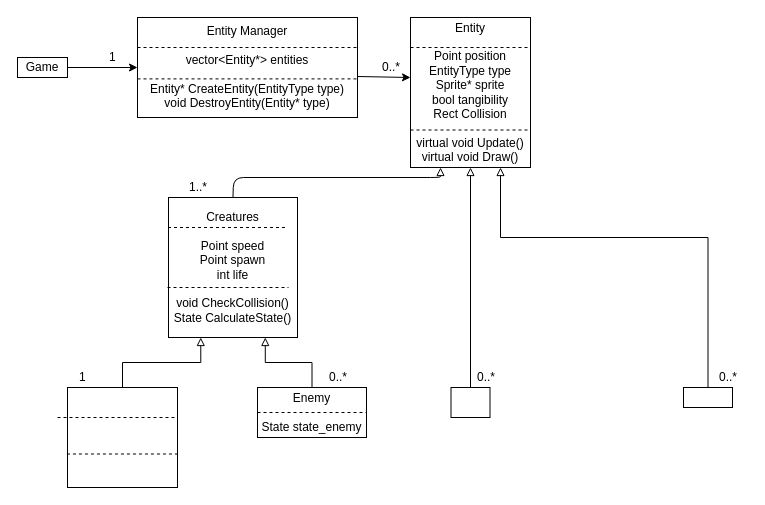
This 765x505 diagram has some shape labels left out. The centre of each missing label's shape, as x and y in pixels:
"Block" belongs at (470,402).
"Player State state_player bool god_mode void HandleInput()" belongs at (122,437).
"Spike" belongs at (707,397).
